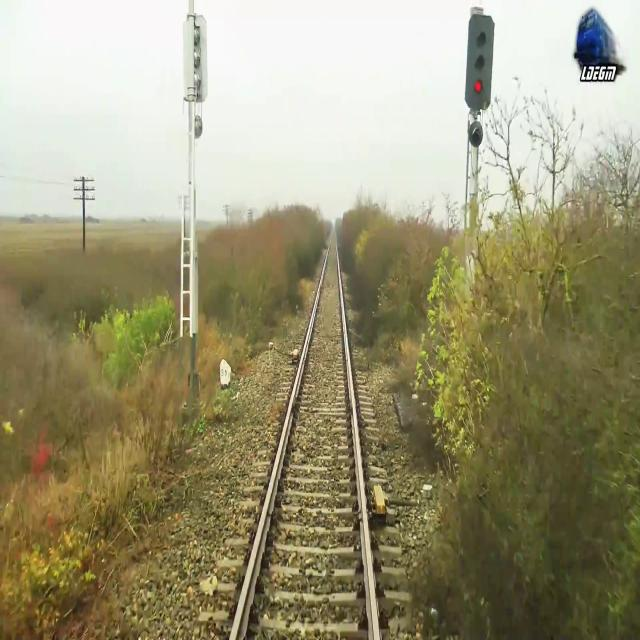rail-track: (234, 229, 374, 639)
